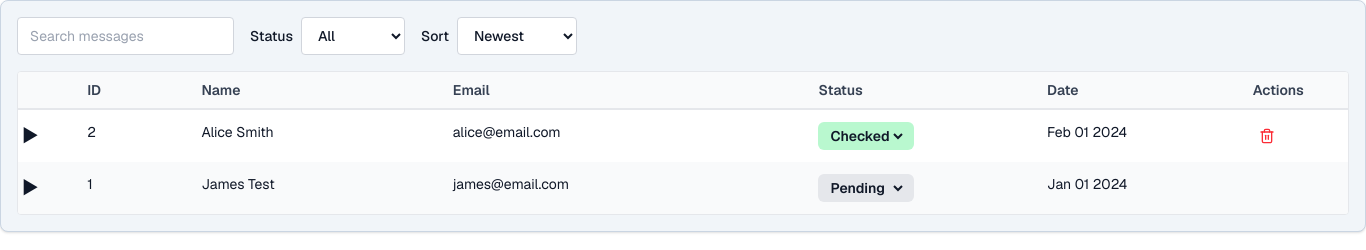
Test: search filters messages
The image size is (1366, 250).
Check: the text "James Test" is shown, box [189, 162, 441, 214]
Type "Alice" into the field with placeholder "Search messages" at (126, 36), box [17, 17, 234, 55]
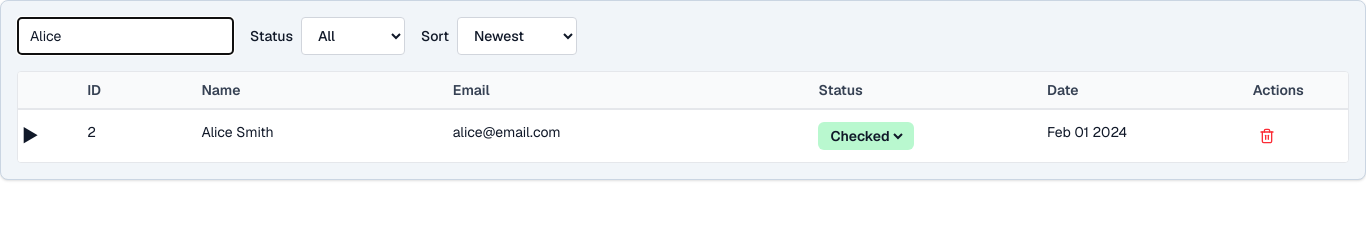
Check: the text "Alice Smith" is shown, box [189, 109, 441, 162]
Check: the text "James Test" is gone
